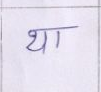aa_matra: (56, 32, 59, 47)
